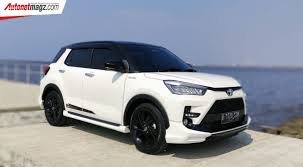mobil: (37, 35, 252, 156)
